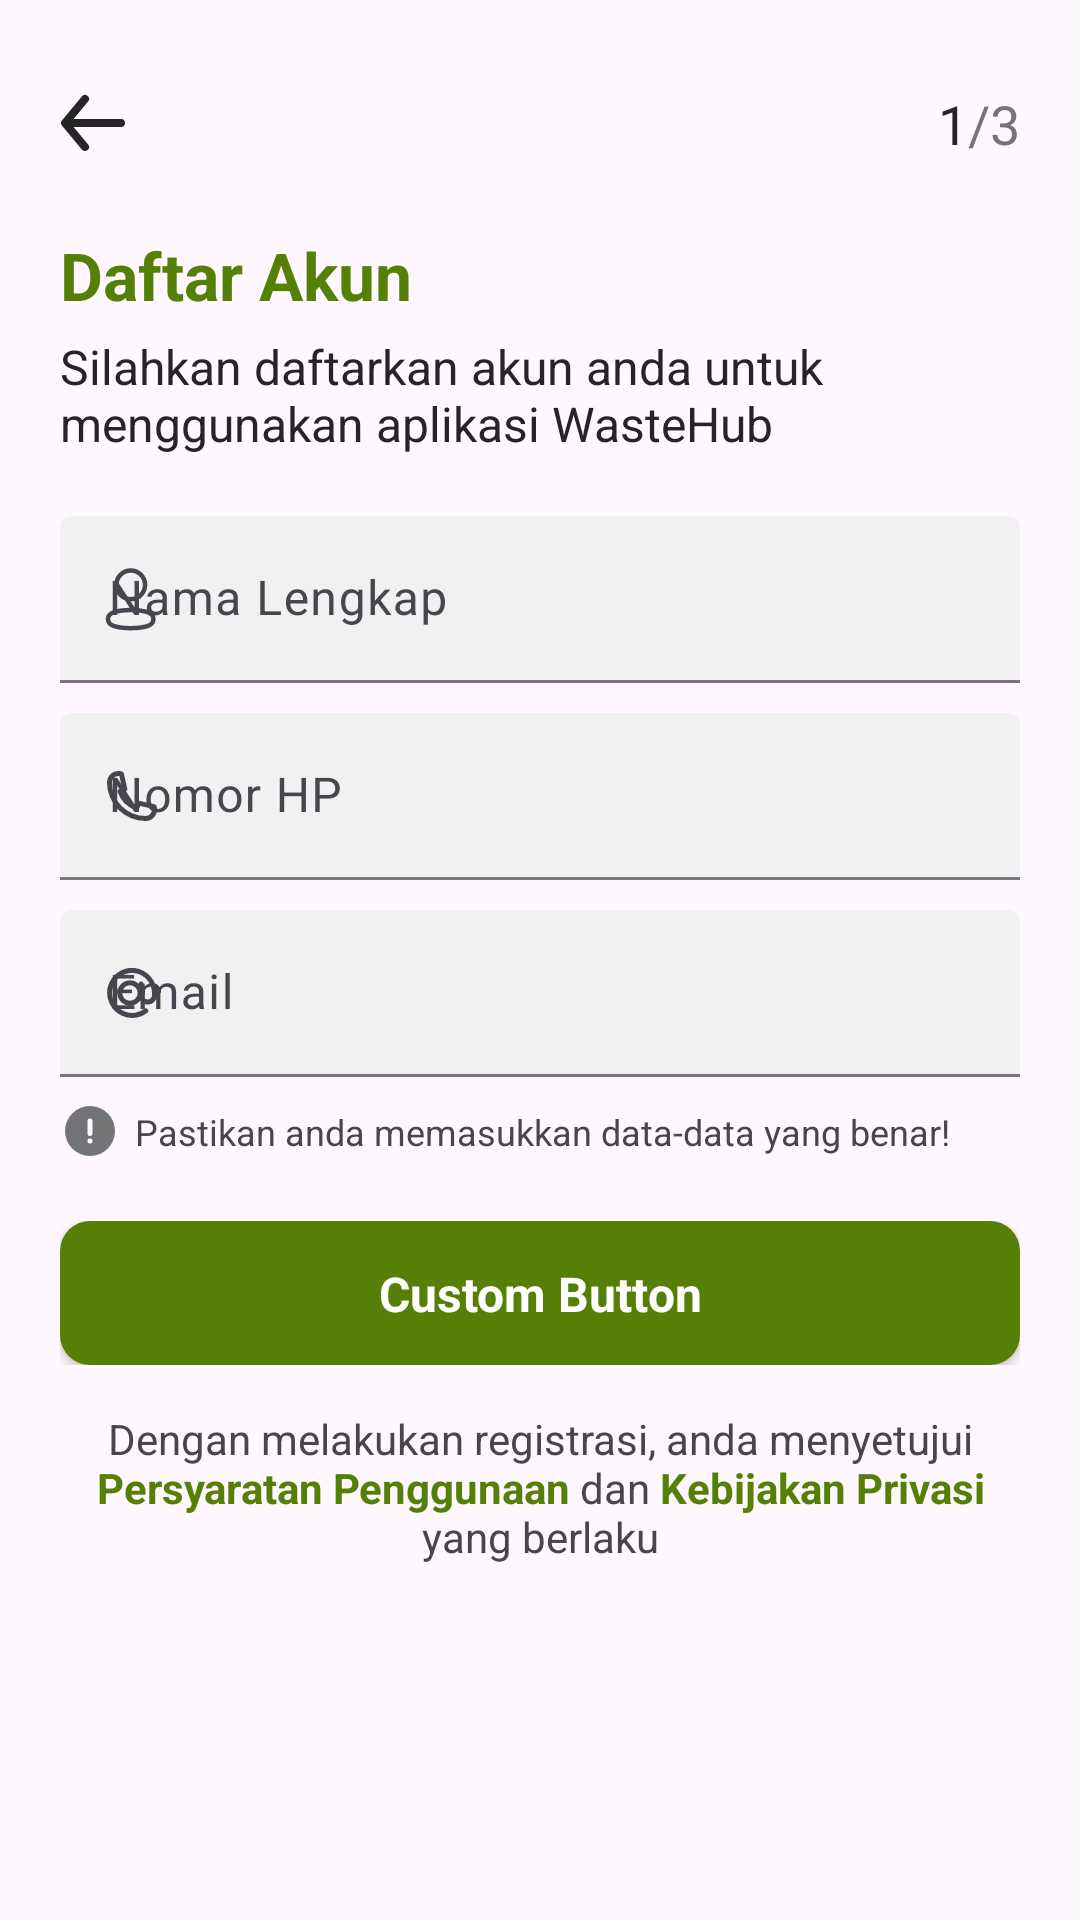

Screen size 1080 × 1920. Icon name, then its center in pixels as (x=x, y=y):
alert circle: (x=90, y=1131)
back: (x=93, y=122)
